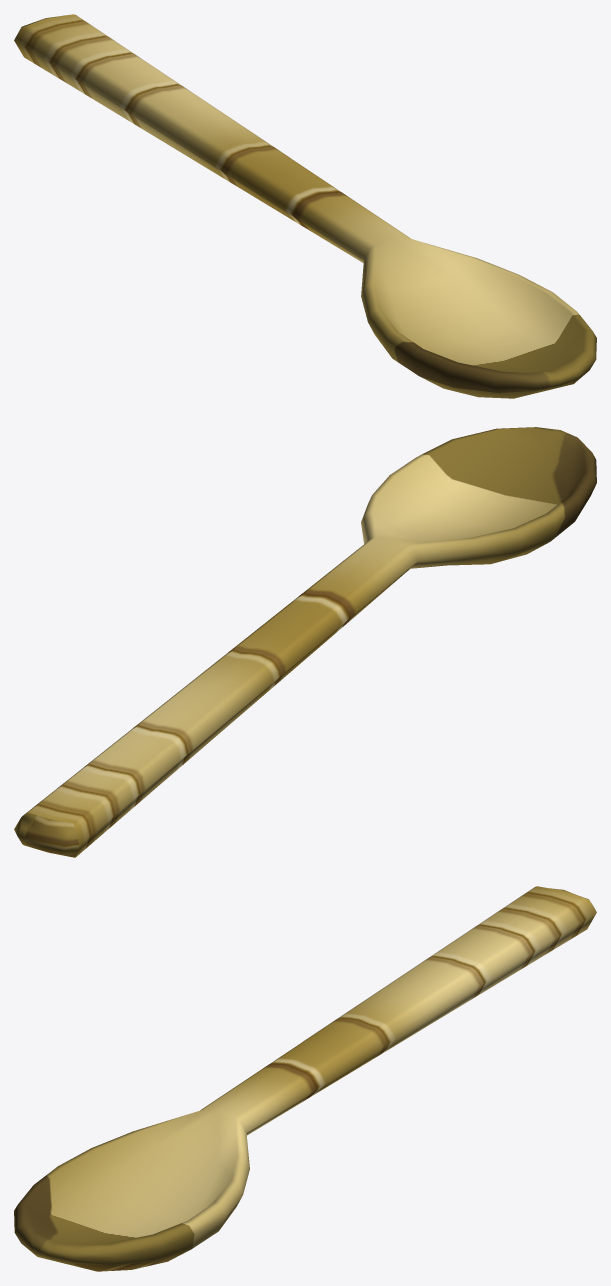
The model's file is Spoon.fbx.
The picture shows the model from 3 angles, top to bottom: view 1: azimuth 30°, elevation 25°; view 2: azimuth 150°, elevation 25°; view 3: azimuth 330°, elevation 25°; orthographic projection.
Parts seen in each view (by area): view 1: Spoon; view 2: Spoon; view 3: Spoon.
Boxes of the visible parts, x1,y1,x2,y2 form: Spoon: (14, 14, 596, 398); Spoon: (14, 427, 596, 857); Spoon: (14, 886, 596, 1271).
Size of the model in its own units: 11.07 by 3.86 by 57.9.
